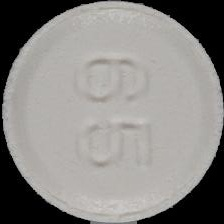68382-022: (0, 0, 224, 224)
